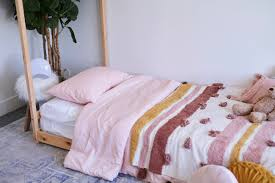bed-matress: (38, 74, 275, 183)
